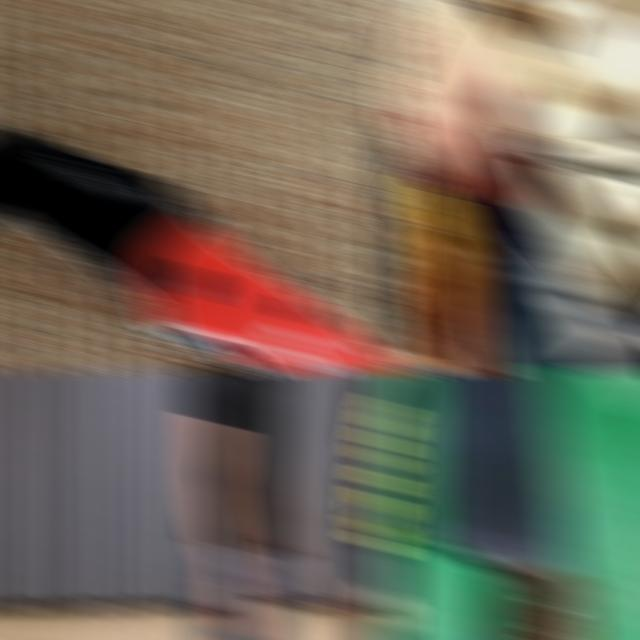Knife: (419, 368, 593, 640), (512, 130, 640, 171)
